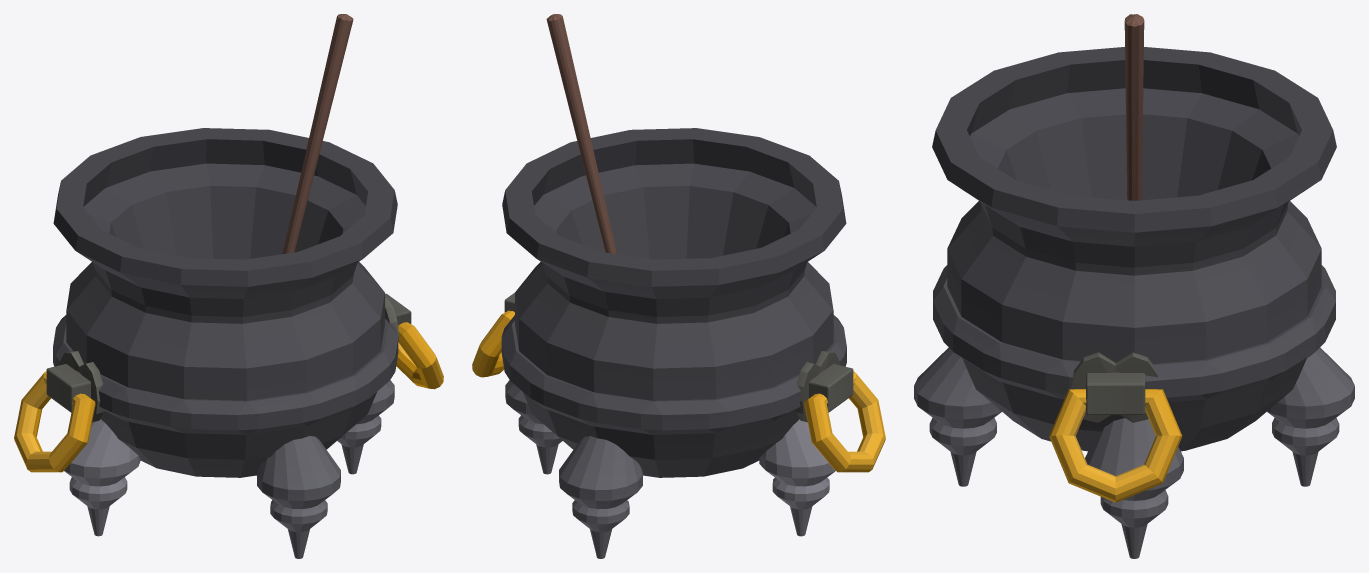
File: caldeirao_lab_LoPo.fbx
3 renders of one model, left to right at view 1: azimuth 30°, elevation 25°; view 2: azimuth 150°, elevation 25°; view 3: azimuth 270°, elevation 25°, orthographic. The views are drawn at different scales.
Parts seen in each view (by area): view 1: caldeirao_lab_LoPo; view 2: caldeirao_lab_LoPo; view 3: caldeirao_lab_LoPo.
Boxes of the visible parts, box(x1,y1,x2,y2) form: caldeirao_lab_LoPo: box(14, 14, 443, 558); caldeirao_lab_LoPo: box(472, 14, 885, 558); caldeirao_lab_LoPo: box(914, 14, 1354, 558).
Bounding box in the file's own units: 87.21 × 96.36 × 71.76.
